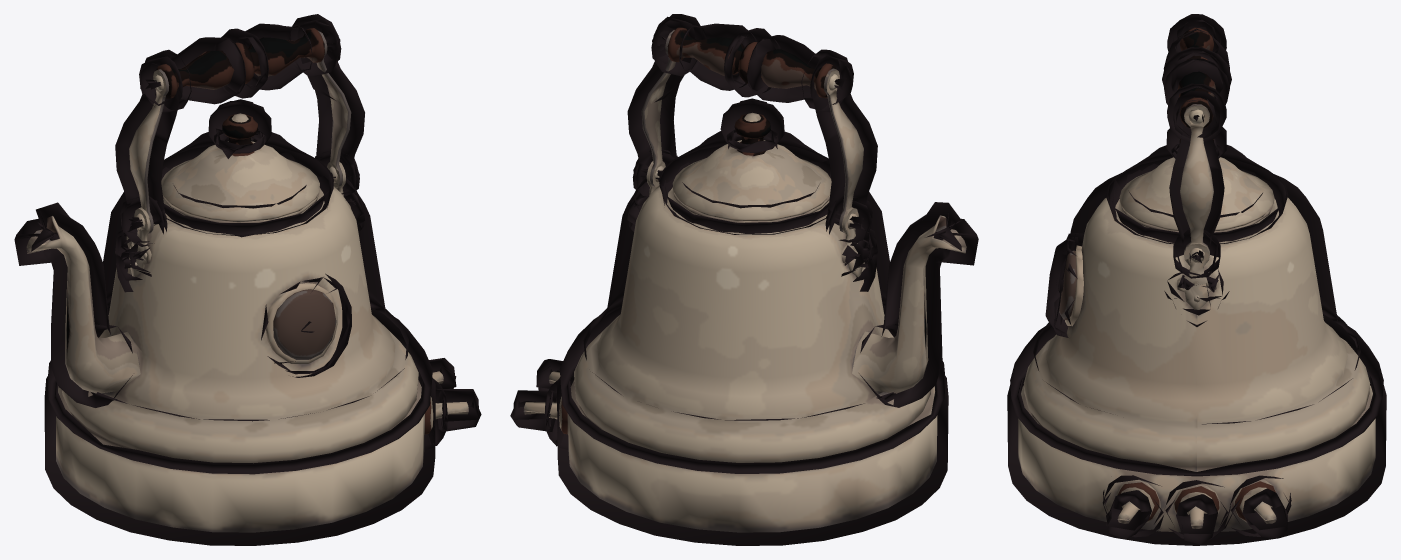
Rendered from SM_Int_Kettle.fbx.
3 renders of one model, left to right at view 1: azimuth 30°, elevation 25°; view 2: azimuth 150°, elevation 25°; view 3: azimuth 270°, elevation 25°, orthographic. The views are drawn at different scales.
Visible parts, largest first — view 1: SM_Int_Kettle; view 2: SM_Int_Kettle; view 3: SM_Int_Kettle.
Boxes of the visible parts, <box> form: SM_Int_Kettle: <box>14,14,481,545</box>; SM_Int_Kettle: <box>510,14,978,545</box>; SM_Int_Kettle: <box>1007,14,1386,545</box>.
Size of the model in its own units: 0.2779 by 0.2633 by 0.2161.
